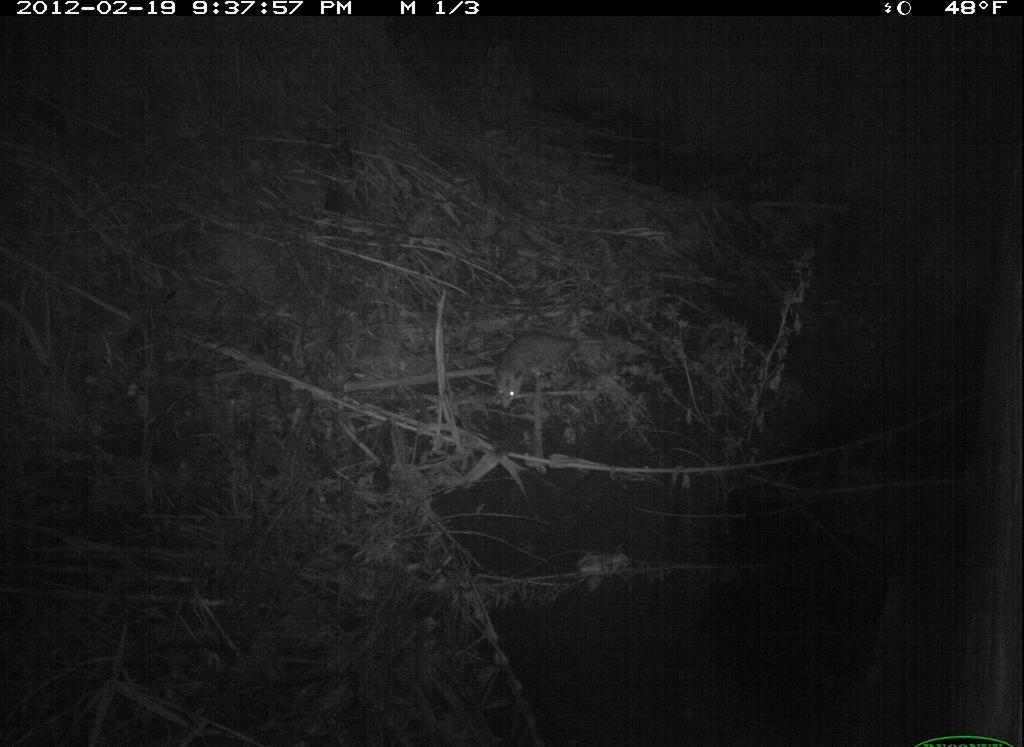opossum: (478, 322, 603, 415)
